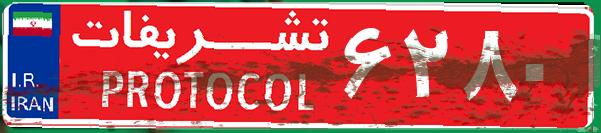0: (520, 20, 580, 115)
2: (400, 20, 460, 115)
6: (340, 20, 400, 115)
8: (460, 20, 520, 115)
تشریفات: (60, 8, 340, 125)
